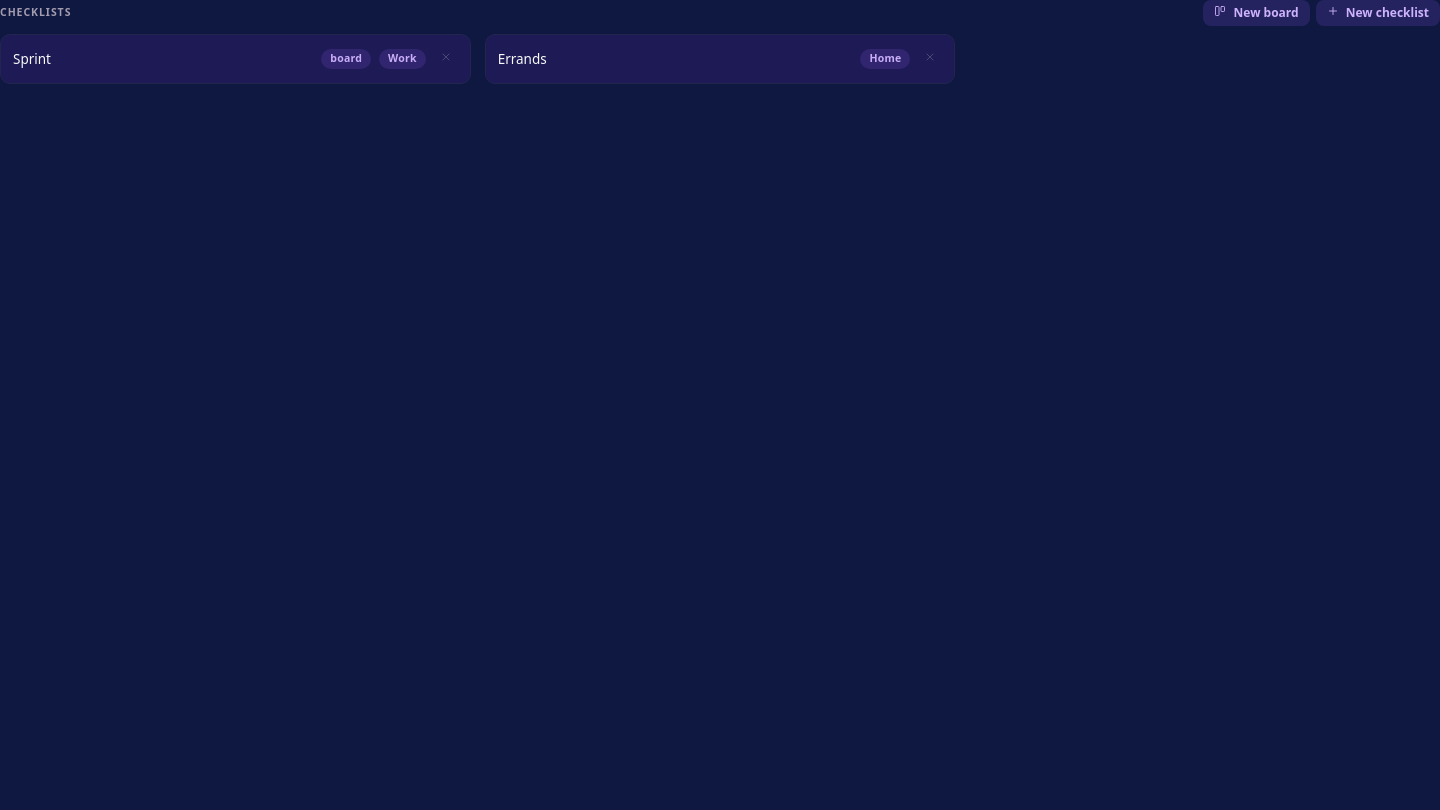
it: ChecklistList delete › board and checklist rows both get a delete button; clicking opens the portal-worded confirm
Check: the button named "Delete Errands" is shown, box [918, 47, 942, 70]
Click the button named "Delete Sprint".
click(446, 59)  # box [434, 47, 458, 70]
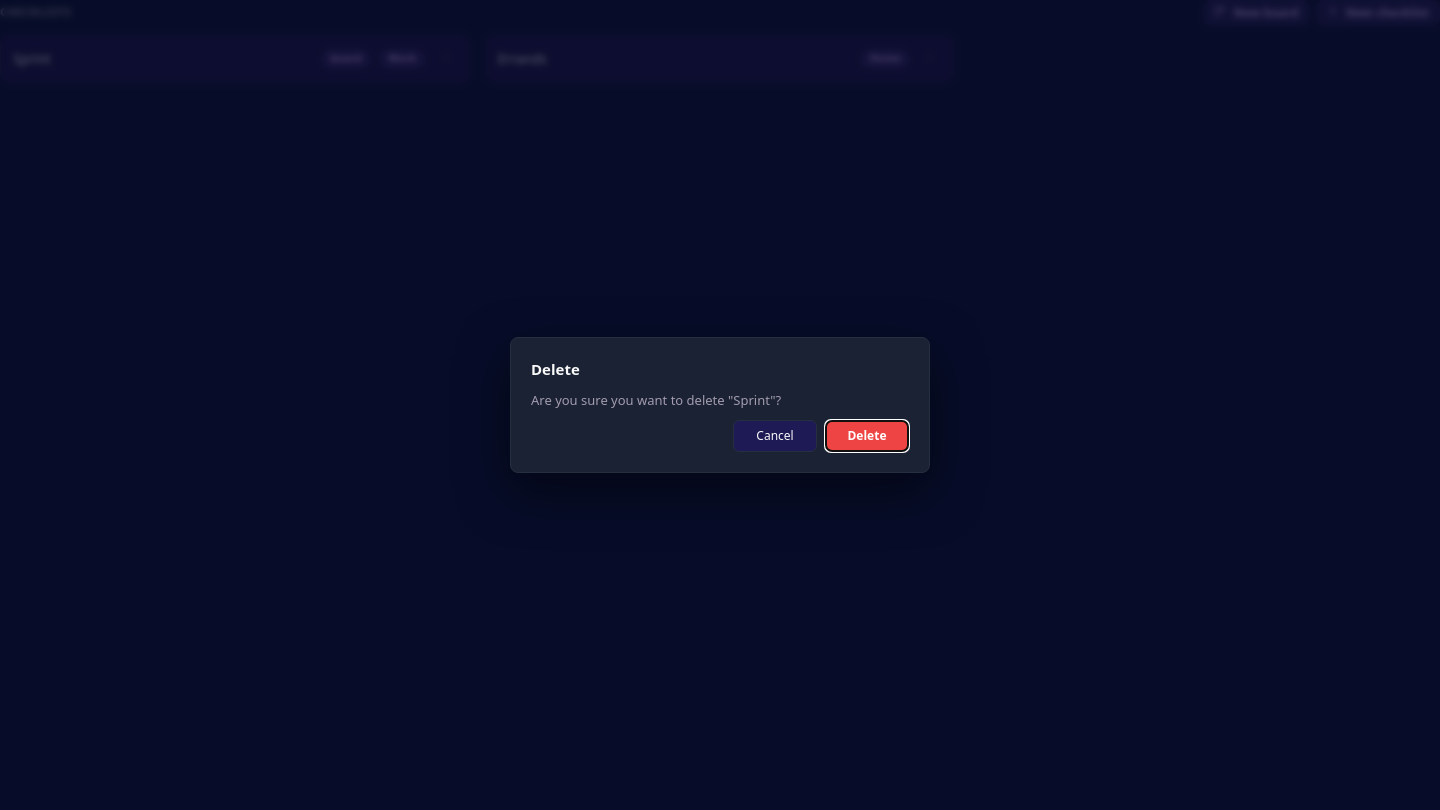
Check: the text "Are you sure you want to delete \"Sprint\"?" is shown, box [531, 390, 781, 408]
